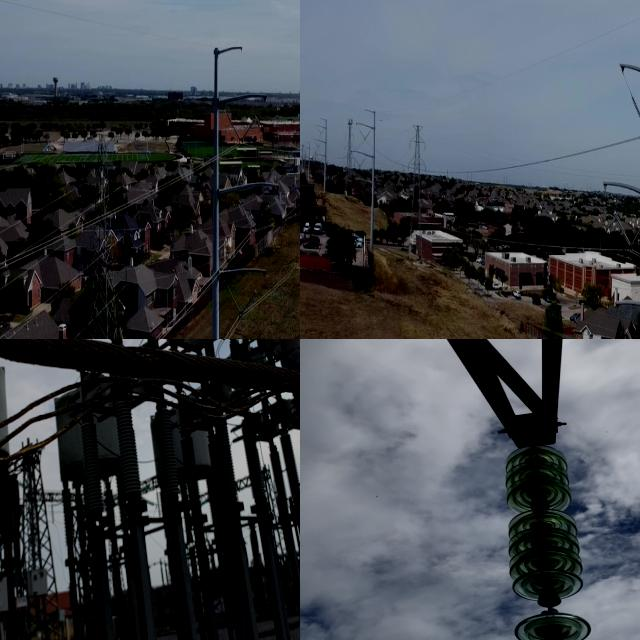杆塔: (73, 118, 131, 339), (406, 118, 435, 254)
正常绝缘子: (490, 424, 595, 640), (611, 208, 635, 250), (223, 277, 244, 318), (250, 199, 273, 235), (236, 195, 257, 233), (237, 112, 259, 148), (223, 105, 243, 144), (238, 286, 260, 320), (627, 224, 640, 252), (630, 94, 640, 122), (624, 326, 634, 339)
电缆破损: (0, 377, 300, 480)
绝缘子破损: (536, 596, 565, 612), (526, 498, 555, 510)
